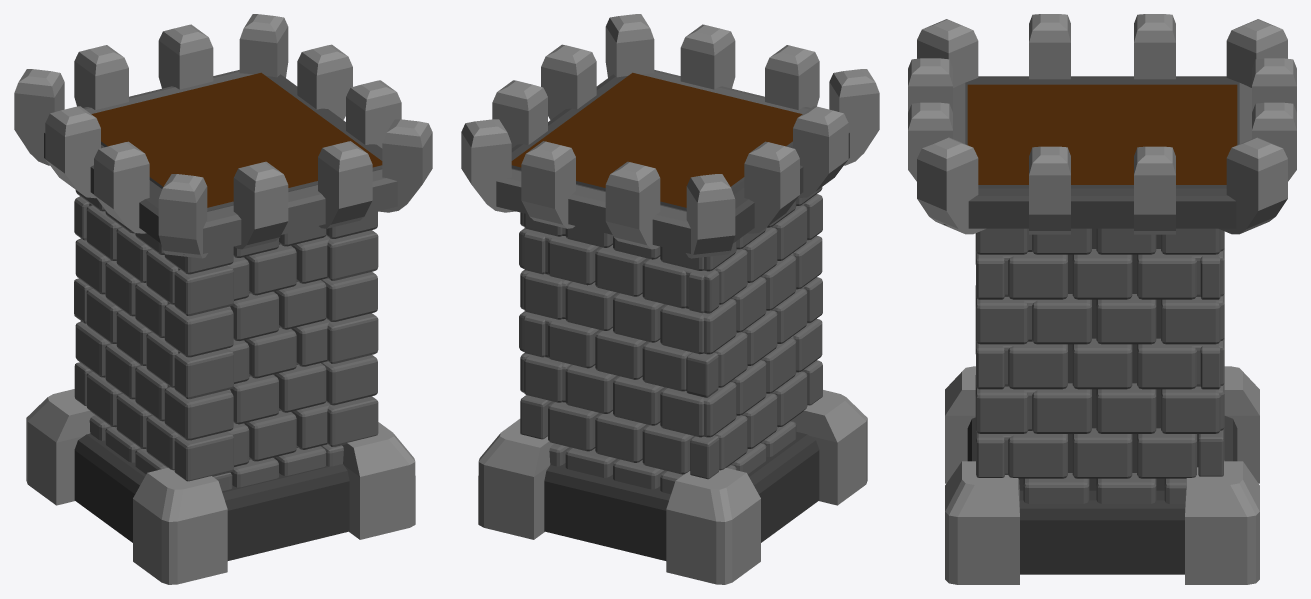
Rendered from torremuralha.fbx.
3 renders of one model, left to right at view 1: azimuth 30°, elevation 25°; view 2: azimuth 150°, elevation 25°; view 3: azimuth 270°, elevation 25°, orthographic. The views are drawn at different scales.
Visible parts, largest first — view 1: Cube.075; view 2: Cube.075; view 3: Cube.075.
Boxes of the visible parts, x1,y1,x2,y2 form: Cube.075: [14, 14, 432, 584]; Cube.075: [461, 14, 879, 584]; Cube.075: [908, 14, 1296, 584].
Bounding box in the file's own units: 1197 × 1602 × 1297.
